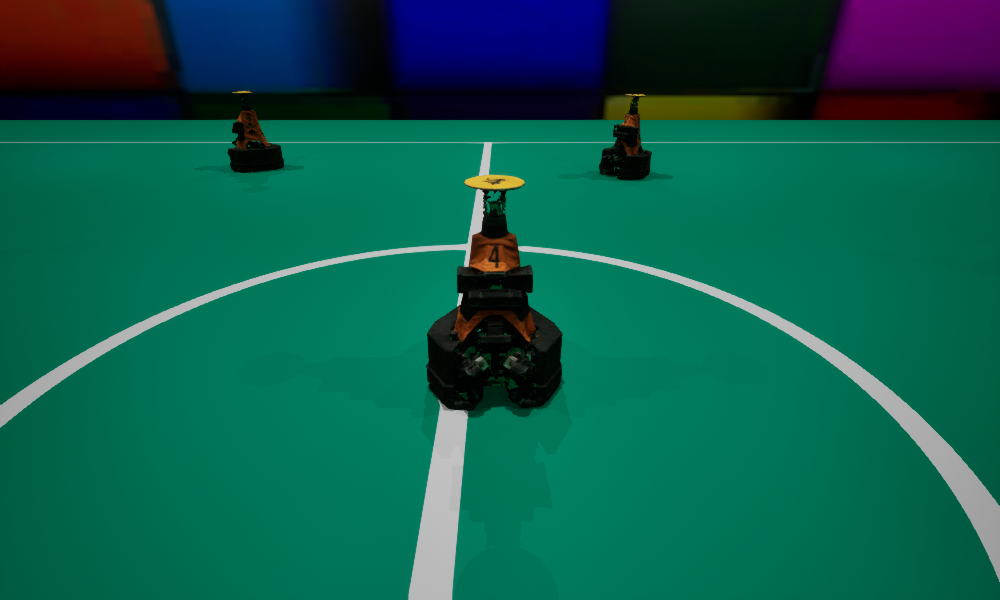0 orange robot TechUnited: (426, 175, 562, 410), (227, 91, 283, 171), (599, 94, 651, 179)
